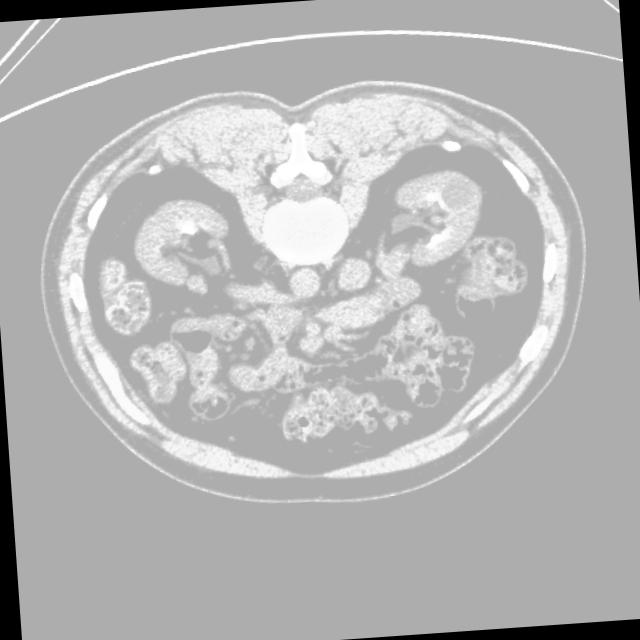STONE: (112, 191, 476, 391)
